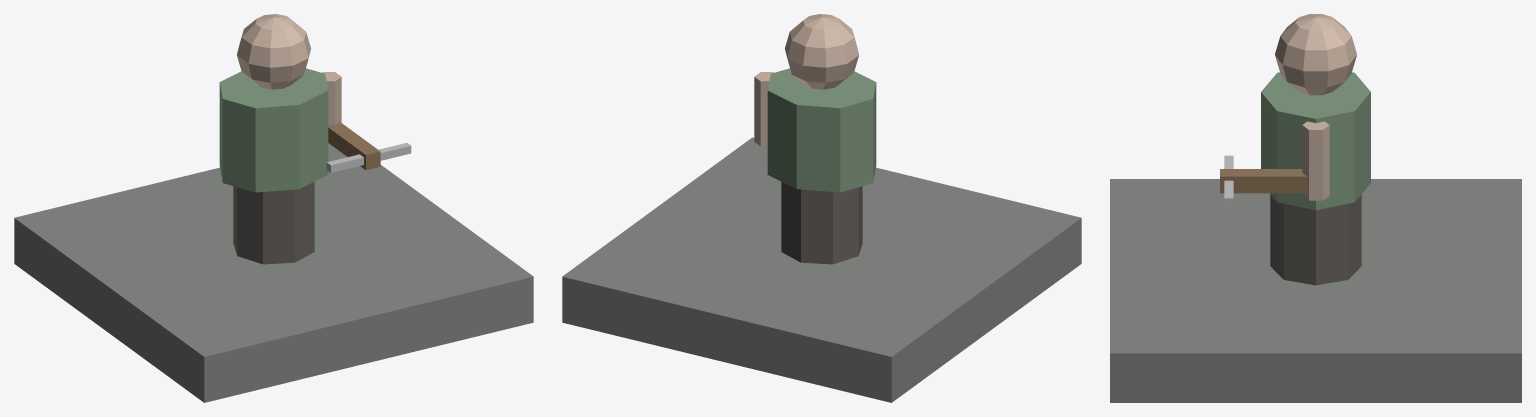
Rendered from human_crossbow.glb.
3 renders of one model, left to right at view 1: azimuth 30°, elevation 25°; view 2: azimuth 150°, elevation 25°; view 3: azimuth 270°, elevation 25°, orthographic. The views are drawn at different scales.
Parts seen in each view (by area): view 1: Base, TurretMesh, ArmMesh; view 2: Base, TurretMesh, ArmMesh; view 3: Base, TurretMesh, ArmMesh.
Part boxes in pixels (x1,y1,x2,y2): Base: (14, 146, 533, 402); TurretMesh: (219, 14, 328, 264); ArmMesh: (322, 72, 411, 172); Base: (562, 137, 1081, 402); TurretMesh: (767, 14, 876, 264); ArmMesh: (754, 72, 773, 146); Base: (1110, 179, 1521, 402); TurretMesh: (1261, 14, 1370, 285); ArmMesh: (1220, 121, 1329, 206).
Size of the model in its own units: 1.8 by 1.44 by 1.8.
